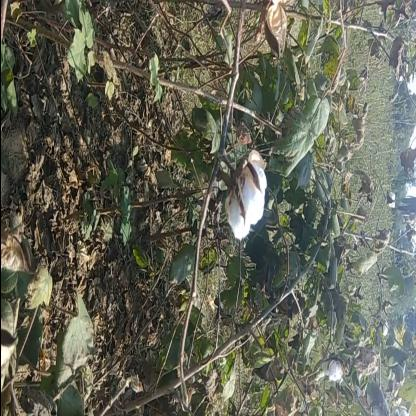cotton_ready: (202, 138, 274, 258)
